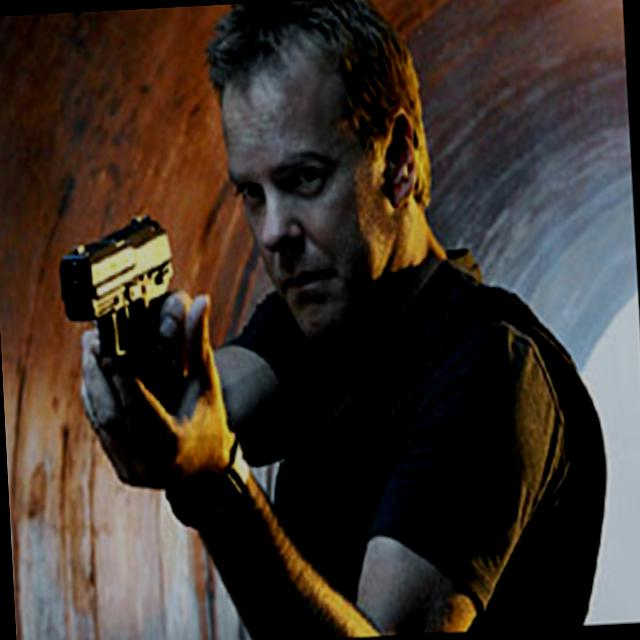handgun: (56, 196, 192, 404)
